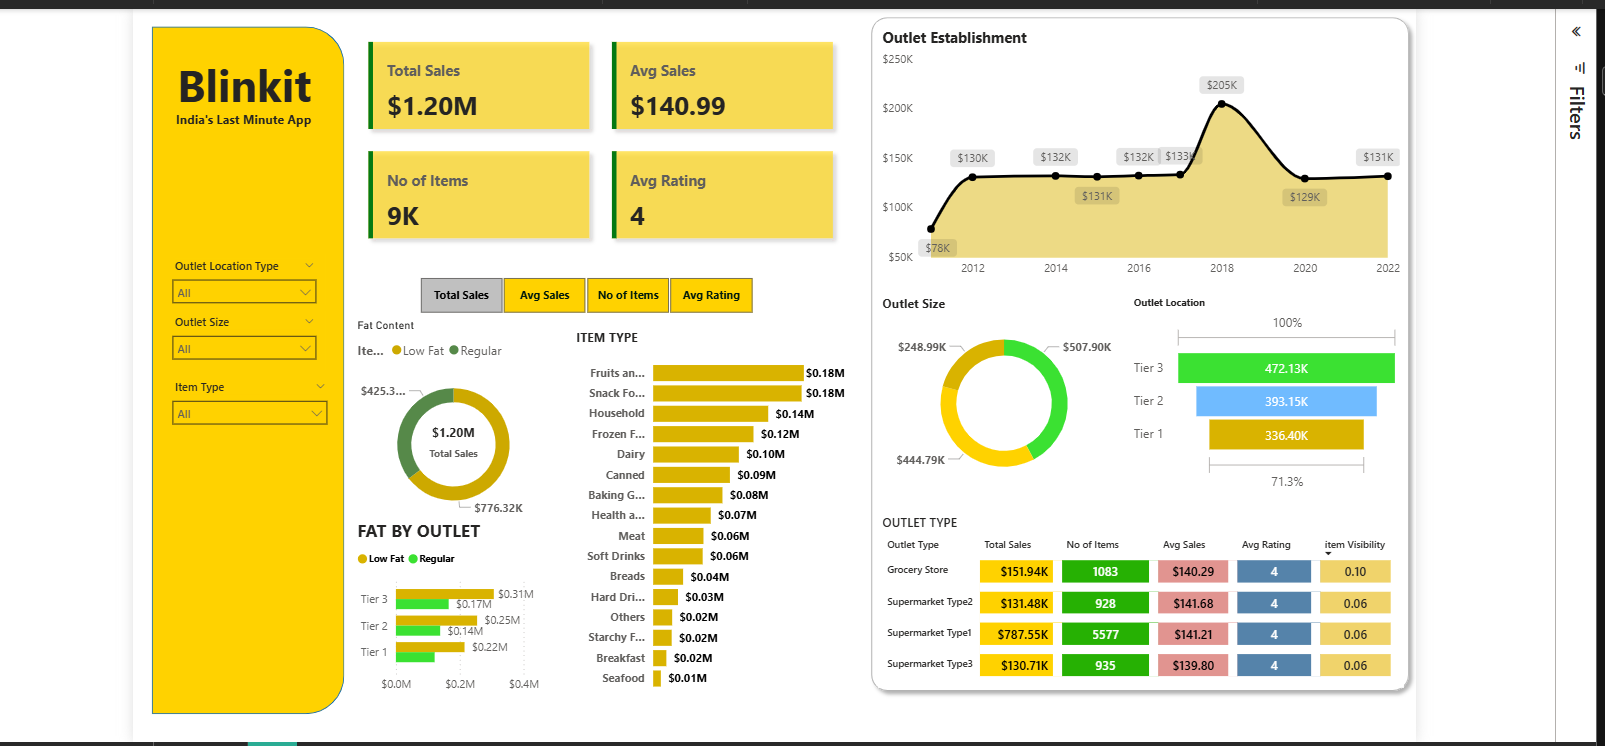

The dashboard page shown, as its layout file describes it:
{"tool":"powerbi","page":{"name":"Page 1","canvas":[1400,800],"ordinal":0},"visuals":[{"type":"shape","box":[20.5,19.1,210,750],"z":0},{"type":"textbox","box":[32.7,45,177.2,75],"z":1000},{"type":"textbox","box":[20.5,106.3,200.4,32.7],"z":2000},{"type":"cardVisual","fields":{"Data":["BlinkIT Grocery Data.Total Sales","BlinkIT Grocery Data.Avg Sales","BlinkIT Grocery Data.No of Items","BlinkIT Grocery Data.Avg Rating"]},"box":[239.9,19.1,541.2,248.1],"z":3000},{"type":"shape","box":[795.7,0,604.3,752.9],"z":4000},{"type":"donutChart","title":"Fat Content","fields":{"Y":["BlinkIT Grocery Data.Total Sales"],"Category":["BlinkIT Grocery Data.Item Fat Content"]},"box":[239.9,338.1,219.5,230.4],"z":5000},{"type":"slicer","fields":{"Values":["Models.Models"]},"box":[287.7,286.3,411.7,51.8],"z":6000},{"type":"card","fields":{"Values":["BlinkIT Grocery Data.Total Sales"]},"box":[312.2,441.7,75,58.6],"z":7000},{"type":"clusteredBarChart","title":"FAT BY  OUTLET","fields":{"Y":["BlinkIT Grocery Data.Total Sales"],"Category":["BlinkIT Grocery Data.Outlet Location Type"],"Series":["BlinkIT Grocery Data.Item Fat Content"]},"box":[239.9,556.2,219.5,197.7],"z":8000},{"type":"barChart","title":" ITEM TYPE","fields":{"Y":["BlinkIT Grocery Data.Total Sales"],"Category":["BlinkIT Grocery Data.Item Type"]},"box":[478.6,348.6,302.9,404.3],"z":9000},{"type":"lineChart","title":" Outlet Establishment ","fields":{"Category":["BlinkIT Grocery Data.Outlet Establishment Year"],"Y":["BlinkIT Grocery Data.Total Sales"]},"box":[812.9,18.6,574.3,281.4],"z":10000},{"type":"pieChart","title":" Outlet Size","fields":{"Category":["BlinkIT Grocery Data.Outlet Size"],"Y":["BlinkIT Grocery Data.Total Sales"]},"box":[812.5,312.2,275.4,218.1],"z":11000},{"type":"funnel","title":"Outlet Location ","fields":{"Y":["Sum(BlinkIT Grocery Data.Sales)"],"Category":["BlinkIT Grocery Data.Outlet Location Type"]},"box":[1086.6,312.2,299.9,218.1],"z":12000},{"type":"pivotTable","title":"OUTLET TYPE","fields":{"Rows":["BlinkIT Grocery Data.Outlet Type"],"Values":["BlinkIT Grocery Data.Total Sales","BlinkIT Grocery Data.No of Items","BlinkIT Grocery Data.Avg Sales","BlinkIT Grocery Data.Avg Rating","Avg(BlinkIT Grocery Data.Item Visibility)"]},"box":[812.5,550.8,574,189.5],"z":13000},{"type":"slicer","fields":{"Values":["BlinkIT Grocery Data.Outlet Location Type"]},"box":[32.7,267.2,177.2,55.9],"z":14000},{"type":"slicer","fields":{"Values":["BlinkIT Grocery Data.Outlet Size"]},"box":[32.7,328.6,177.2,65.4],"z":15000},{"type":"slicer","fields":{"Values":["BlinkIT Grocery Data.Item Type"]},"box":[32.7,399.5,189.5,65.4],"z":16000}]}

Visuals, with their boxes on the page's 1400x800 design canvas (x1, y1, x2, y2). These are canvas units, not pixel positions in the 1605x746 screenshot, which may show the page scaled, cropped or inside an application window:
shape: x1=20, y1=19, x2=230, y2=769
textbox: x1=33, y1=45, x2=210, y2=120
textbox: x1=20, y1=106, x2=221, y2=139
cardVisual - BlinkIT Grocery Data.Total Sales x BlinkIT Grocery Data.Avg Sales: x1=240, y1=19, x2=781, y2=267
shape: x1=796, y1=0, x2=1400, y2=753
"Fat Content" donutChart: x1=240, y1=338, x2=459, y2=568
slicer - Models.Models: x1=288, y1=286, x2=699, y2=338
card - BlinkIT Grocery Data.Total Sales: x1=312, y1=442, x2=387, y2=500
"FAT BY  OUTLET" clusteredBarChart: x1=240, y1=556, x2=459, y2=754
" ITEM TYPE" barChart: x1=479, y1=349, x2=782, y2=753
" Outlet Establishment " lineChart: x1=813, y1=19, x2=1387, y2=300
" Outlet Size" pieChart: x1=812, y1=312, x2=1088, y2=530
"Outlet Location " funnel: x1=1087, y1=312, x2=1386, y2=530
"OUTLET TYPE" pivotTable: x1=812, y1=551, x2=1386, y2=740
slicer - BlinkIT Grocery Data.Outlet Location Type: x1=33, y1=267, x2=210, y2=323
slicer - BlinkIT Grocery Data.Outlet Size: x1=33, y1=329, x2=210, y2=394
slicer - BlinkIT Grocery Data.Item Type: x1=33, y1=400, x2=222, y2=465
